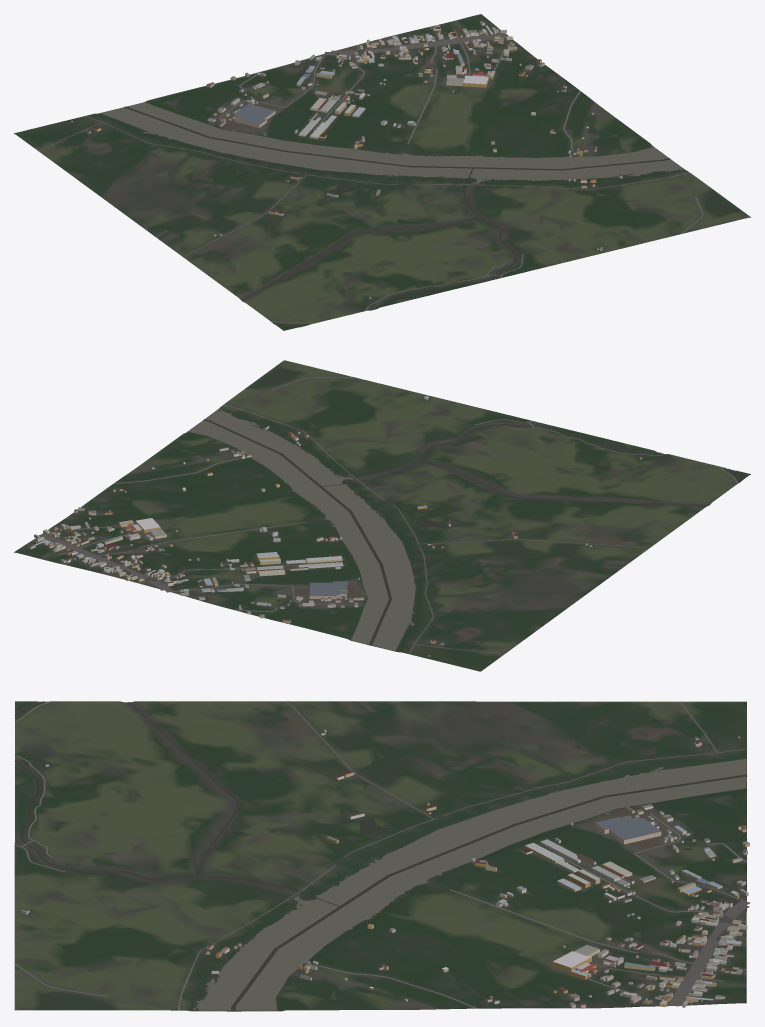
3 views of the same model, one above another, from view 1: azimuth 30°, elevation 25°; view 2: azimuth 150°, elevation 25°; view 3: azimuth 270°, elevation 25° (orthographic). The views are drawn at different scales.
Parts seen in each view (by area): view 1: ground, water, buildings, roads; view 2: ground, water, buildings, roads; view 3: ground, water, buildings, roads.
Boxes of the visible parts, x1,y1,x2,y2 form: ground: (14, 14, 750, 330); water: (100, 93, 682, 325); buildings: (70, 20, 622, 298); roads: (39, 26, 703, 323); ground: (14, 360, 750, 671); water: (188, 409, 740, 650); buildings: (29, 395, 642, 656); roads: (39, 377, 737, 654); ground: (14, 701, 746, 1011); water: (14, 701, 747, 1011); buildings: (21, 729, 749, 1008); roads: (14, 701, 750, 1010).
Bounding box in the file's own units: 1409 × 28.33 × 1410.
